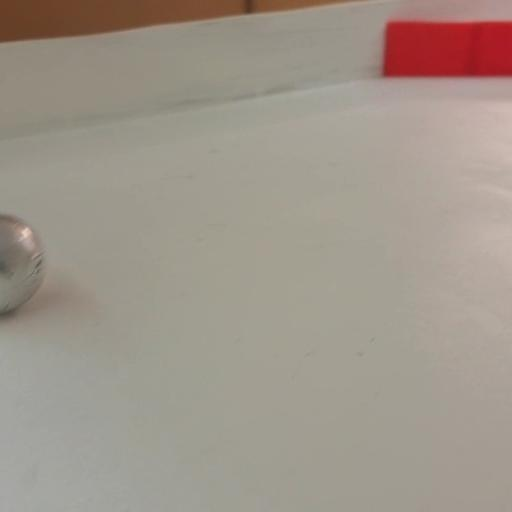alive: (0, 210, 45, 316)
